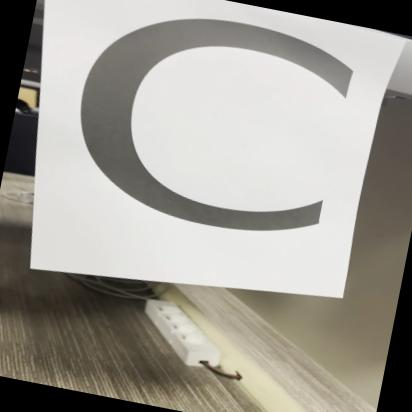seat: (20, 0, 391, 288)
